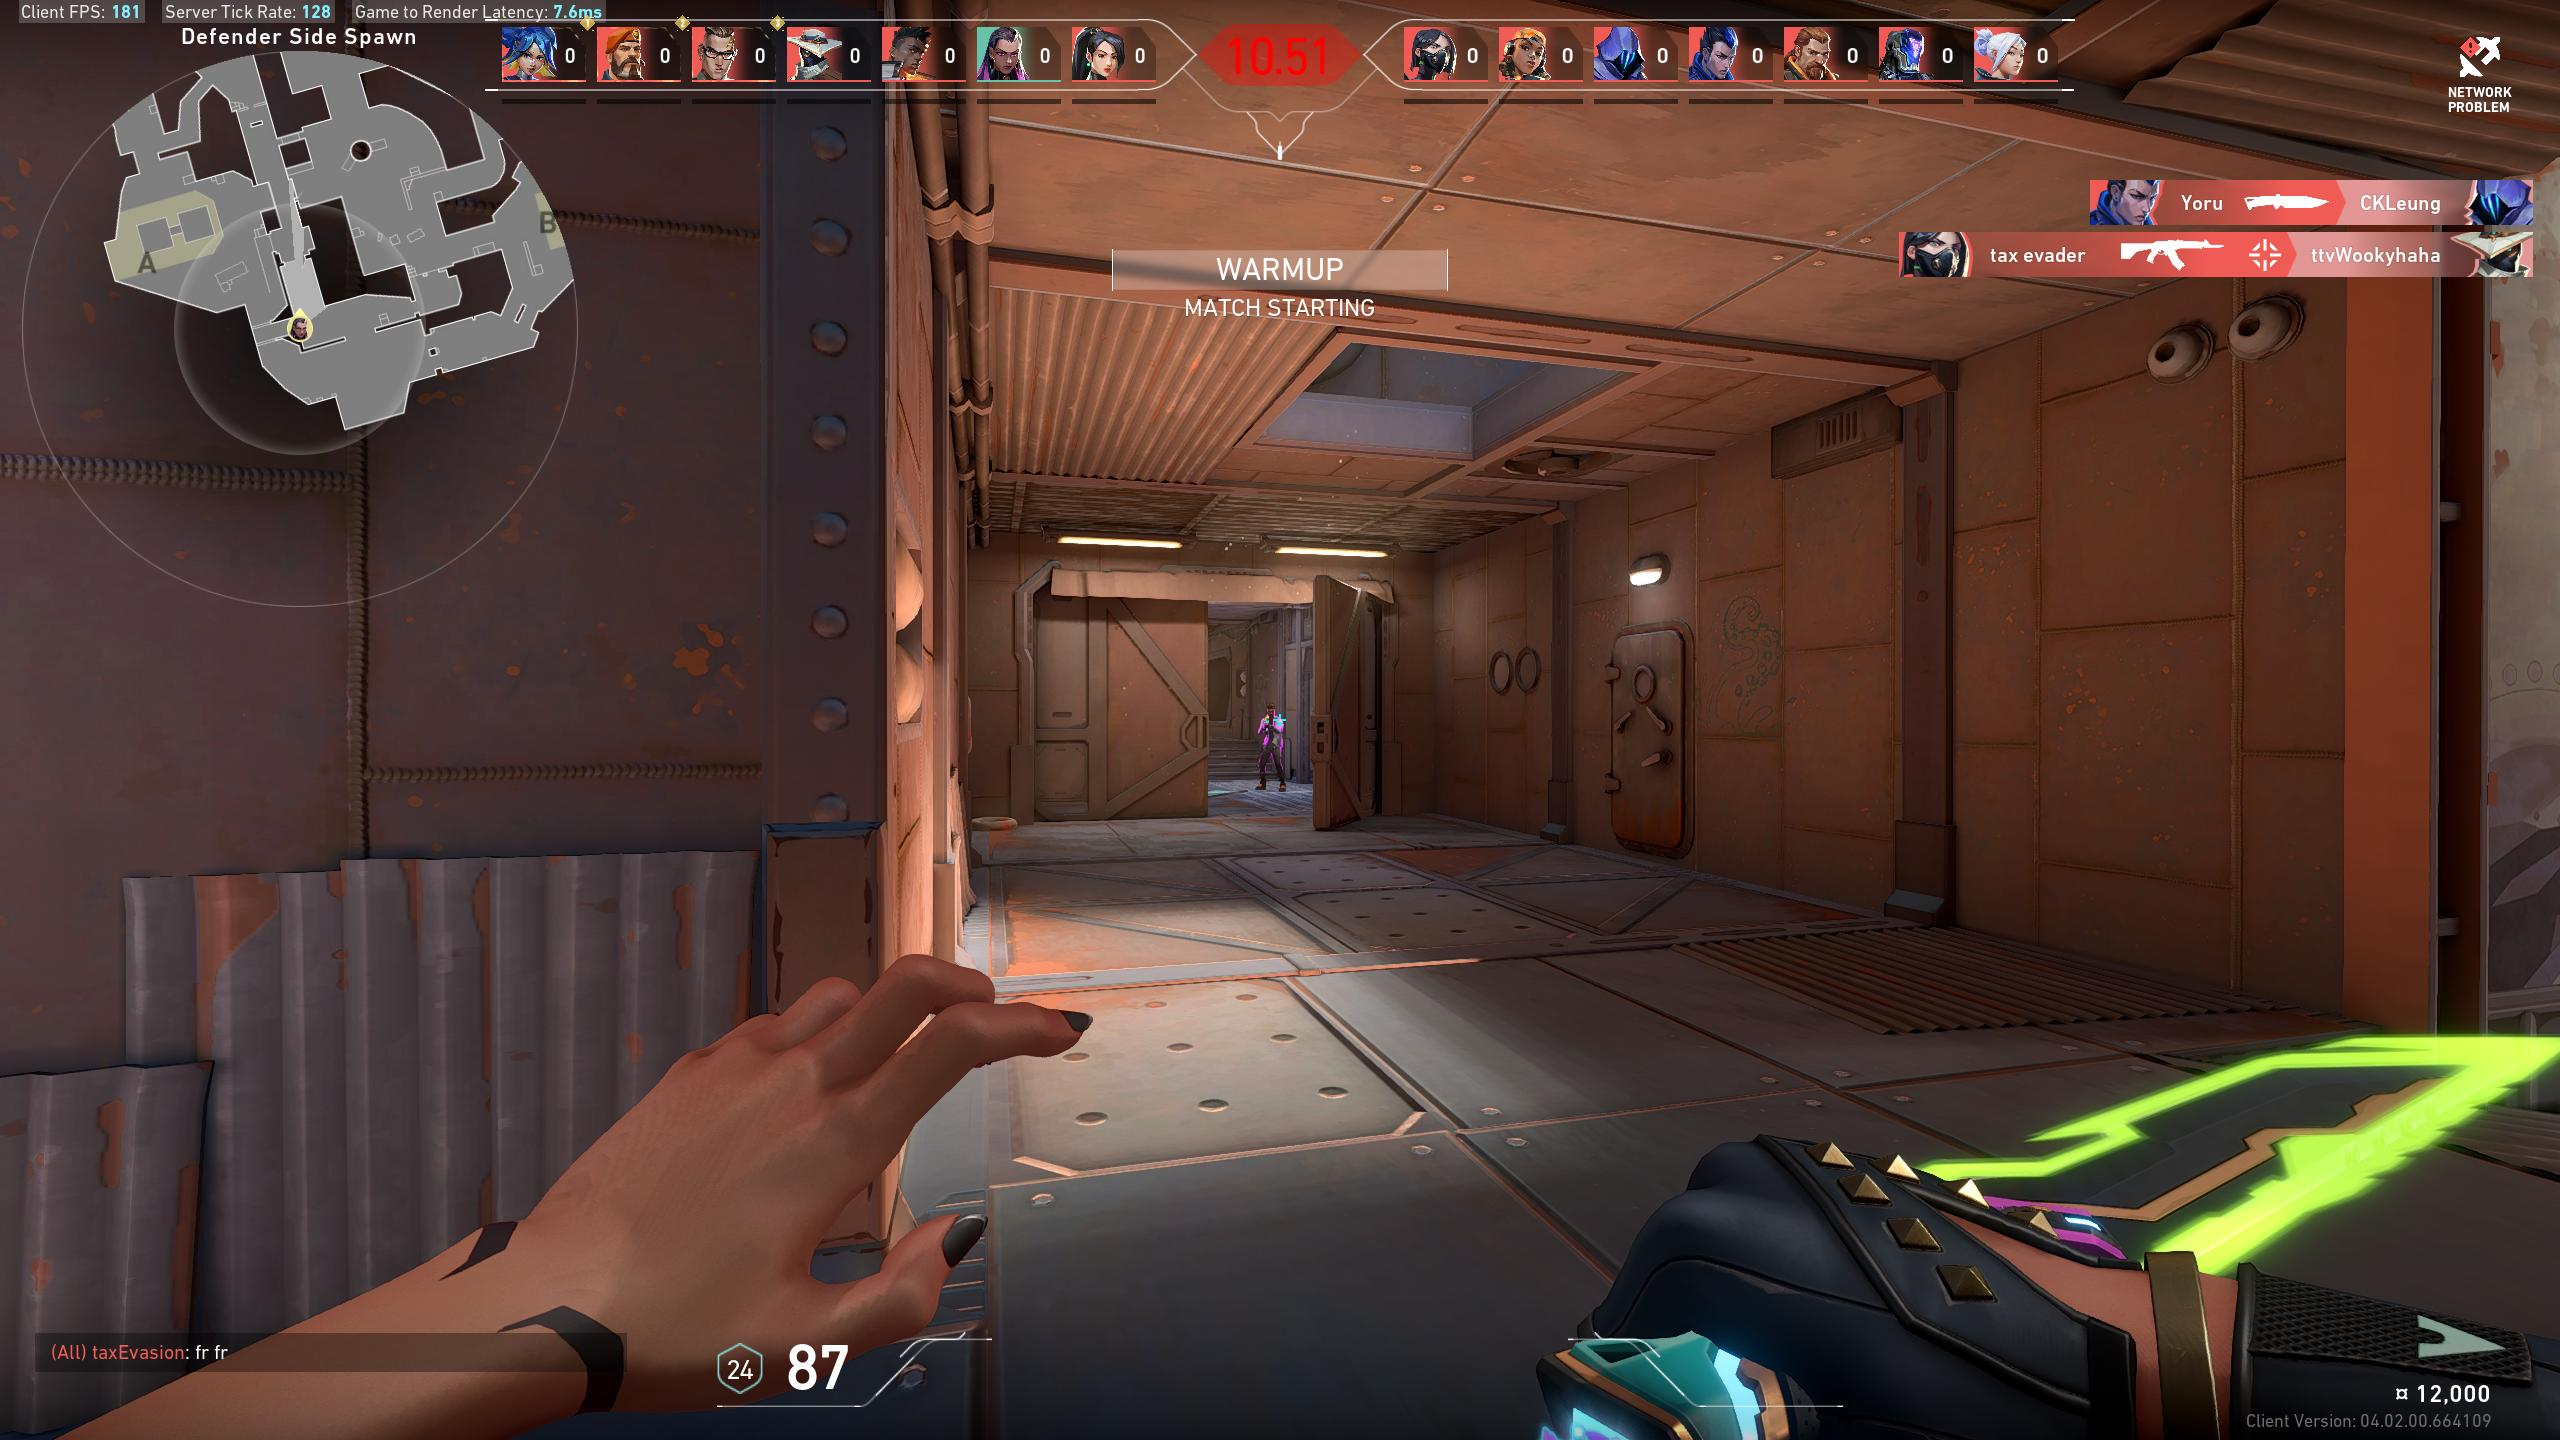enemyBody: (1268, 719, 1276, 738)
enemyHead: (1268, 709, 1275, 717)
